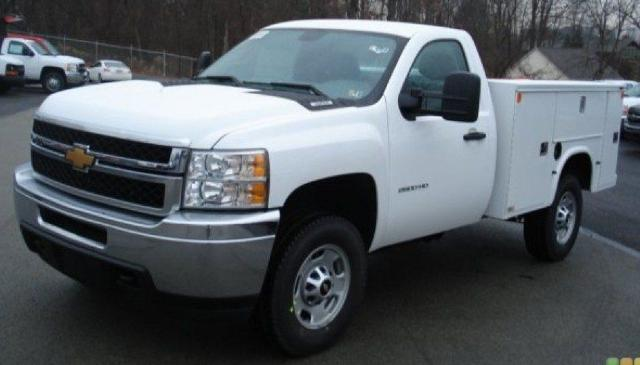pickup-truck: (13, 18, 626, 355)
